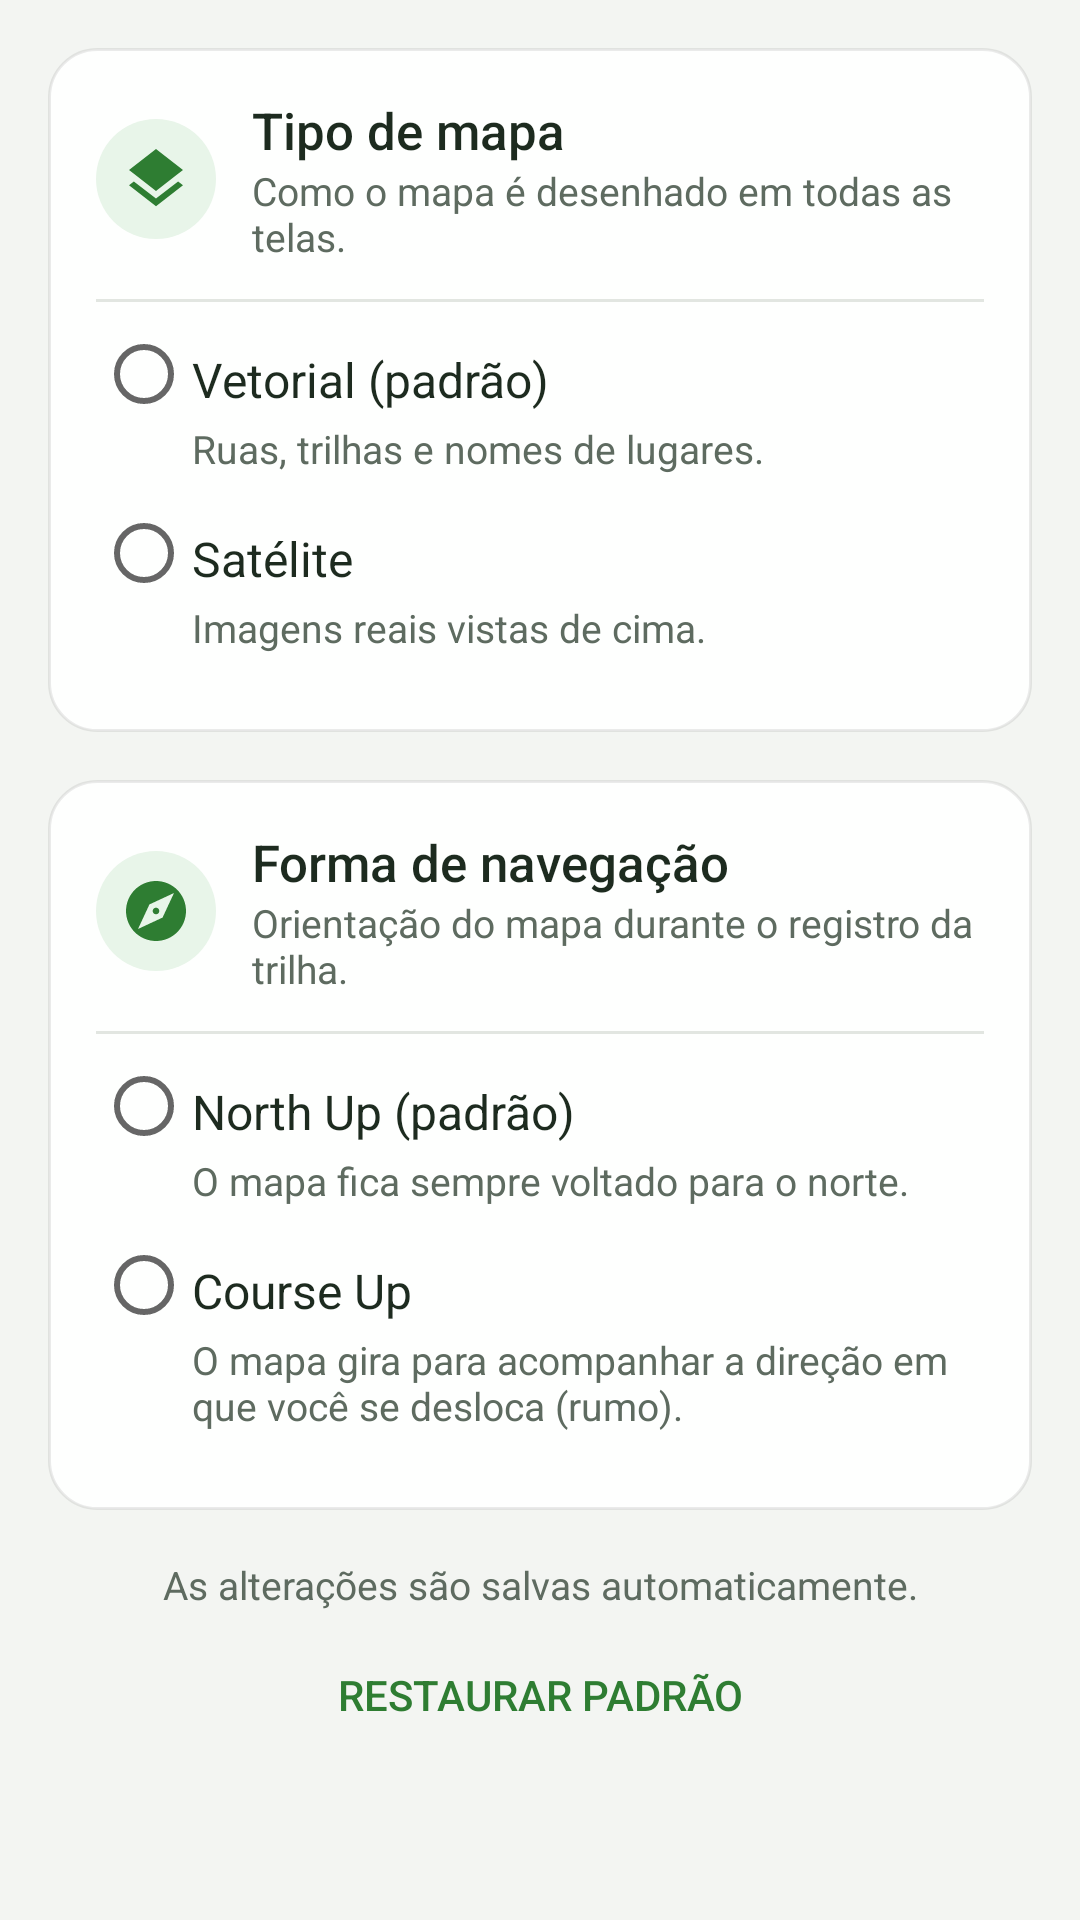

Named icons in this screenshot (1080px x 1920px) and their bounding boxes, (x1, y1, x2, y2):
bussola: (126, 881, 186, 941)
camadas: (129, 149, 183, 207)
